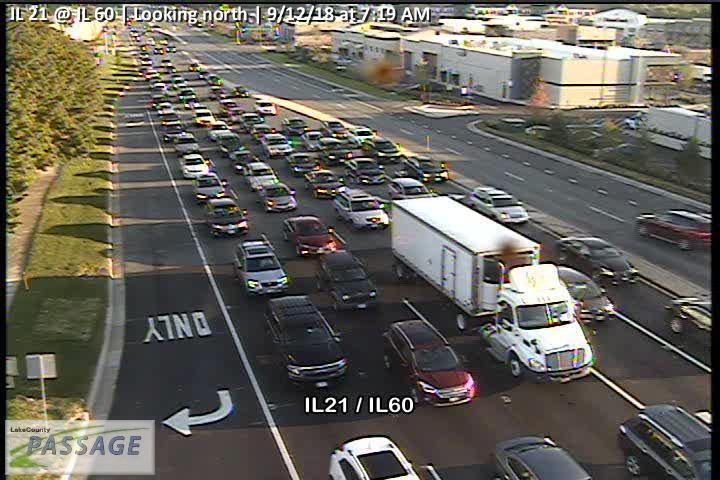SUV: (382, 319, 477, 407), (264, 294, 351, 386), (617, 404, 712, 480), (326, 434, 421, 480), (313, 250, 378, 312), (233, 240, 289, 297), (634, 209, 711, 250), (332, 188, 390, 230), (468, 186, 531, 224), (205, 197, 249, 238), (404, 153, 449, 182), (363, 135, 403, 163), (345, 158, 387, 184), (387, 177, 437, 198), (317, 137, 353, 164), (262, 133, 294, 157), (217, 135, 245, 157), (347, 125, 375, 146), (320, 120, 349, 139), (240, 112, 264, 133), (250, 124, 275, 143), (193, 108, 214, 125), (255, 100, 276, 116)
Sedan: (555, 235, 640, 288), (491, 436, 593, 480), (282, 215, 337, 256), (256, 182, 298, 212), (304, 169, 344, 199), (192, 172, 228, 203), (244, 161, 280, 192), (179, 153, 209, 178), (289, 152, 320, 176), (174, 131, 200, 156), (231, 150, 259, 173), (281, 117, 310, 135), (300, 131, 325, 151), (207, 120, 232, 139)
Truck: (390, 194, 595, 384)
